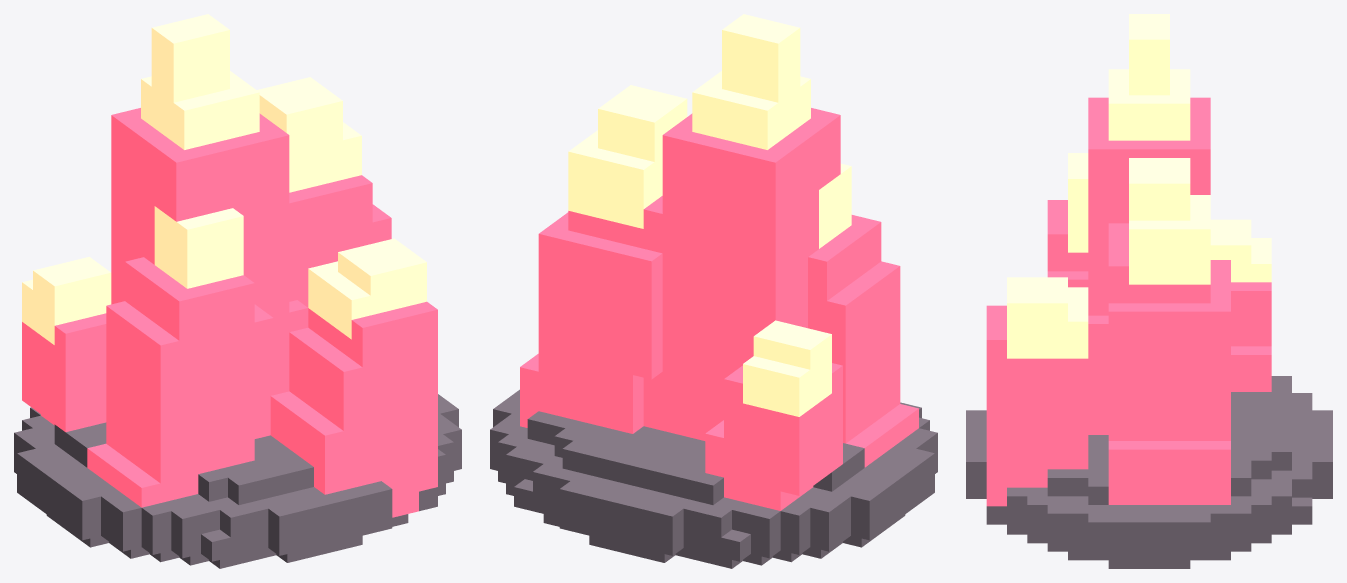
The model's file is blood_crystal_growth.glb.
The picture shows the model from 3 angles, left to right: view 1: azimuth 30°, elevation 25°; view 2: azimuth 150°, elevation 25°; view 3: azimuth 270°, elevation 25°; orthographic projection. The views are drawn at different scales.
Size of the model in its own units: 0.8333 by 1 by 0.75.
